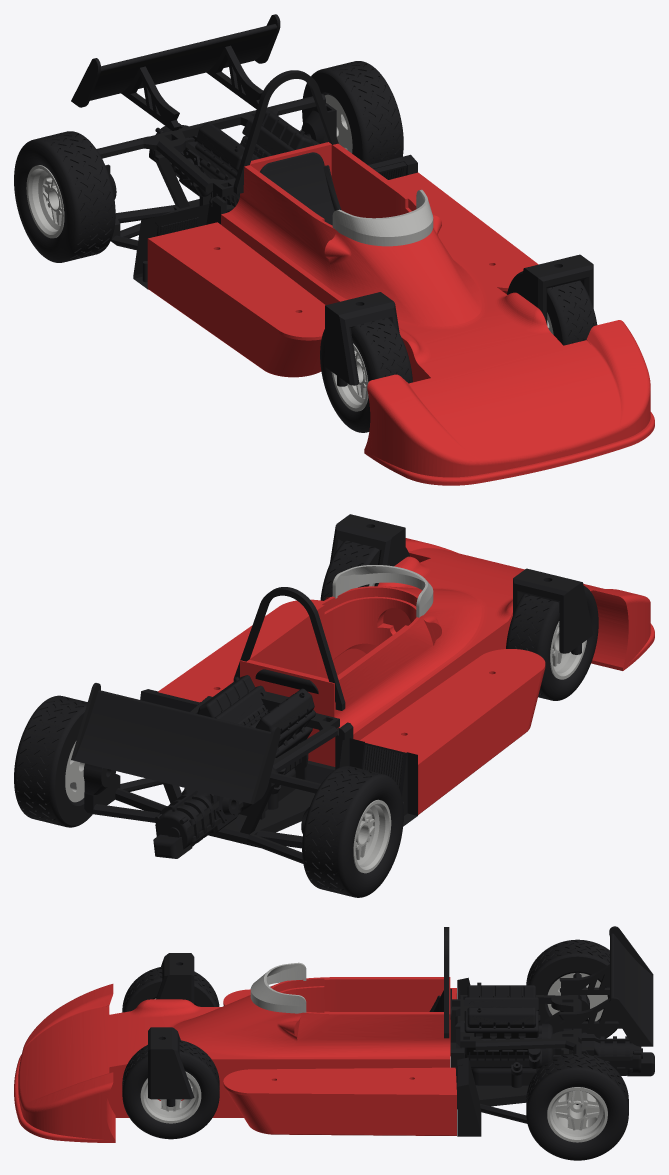
The model's file is race-car-desk.glb.
3 views of the same model, one above another, from view 1: azimuth 30°, elevation 25°; view 2: azimuth 150°, elevation 25°; view 3: azimuth 270°, elevation 25° (orthographic). The views are drawn at different scales.
Visible parts, largest first — view 1: 00-body; view 2: 00-body; view 3: 00-body.
Part boxes in pixels (x1,y1,x2,y2): 00-body: (14,14,654,485); 00-body: (14,514,654,897); 00-body: (14,926,654,1160).
Bounding box in the file's own units: 114 × 66.96 × 233.
